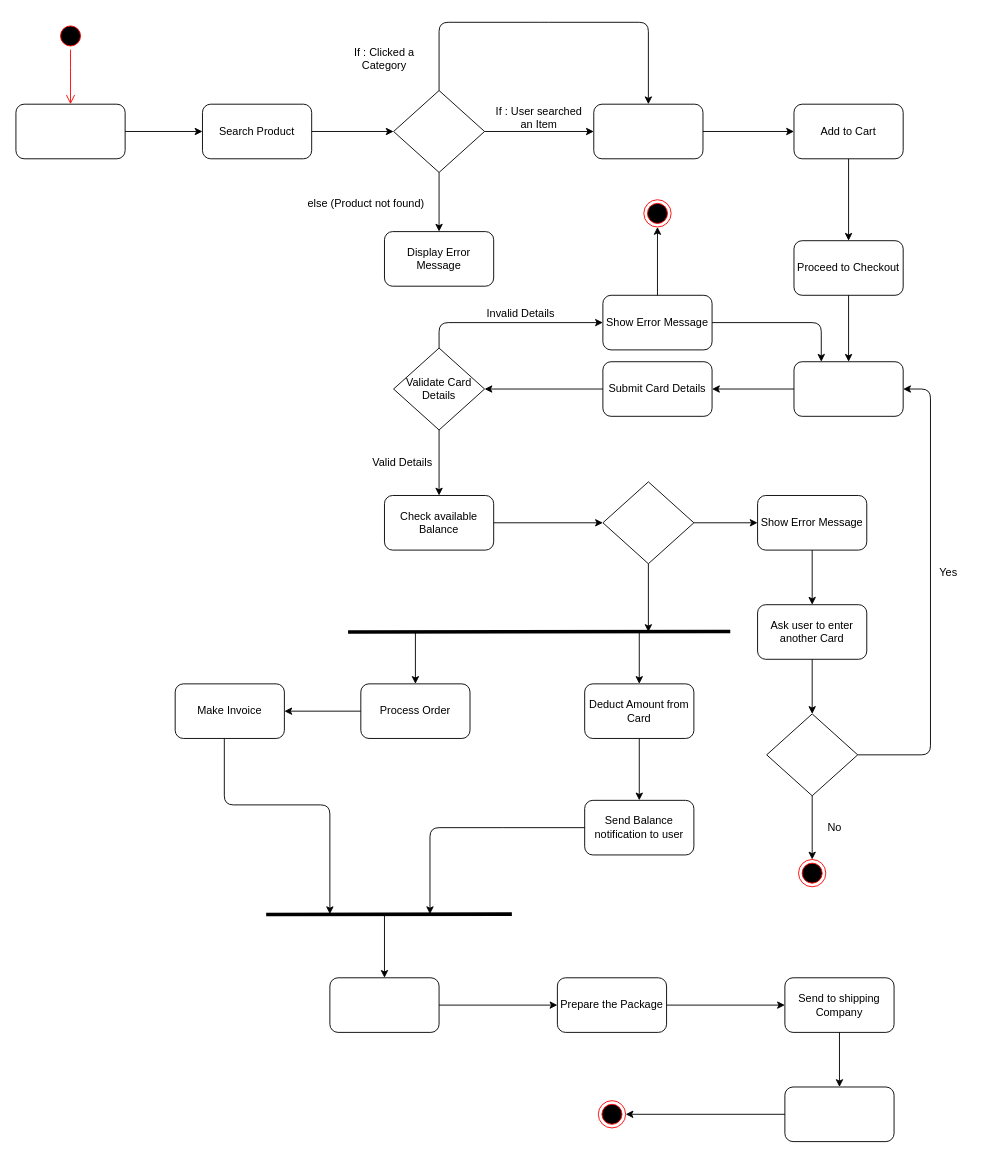
This 1001x1158 diagram has some shape labels left out. The box of each missing label's shape, as (x1, y1, x2, y2) in pixels:
balance >= totalPrice: (602, 481, 694, 564)
Check Search method: (393, 90, 485, 172)
Check User choice: (766, 713, 858, 796)
Display Product: (593, 103, 703, 159)
Enter Card Details: (793, 361, 903, 416)
Proceed to Home Page: (15, 103, 125, 159)
Send order request to seller: (329, 977, 439, 1032)
Ship the package to Customer: (784, 1086, 894, 1142)
